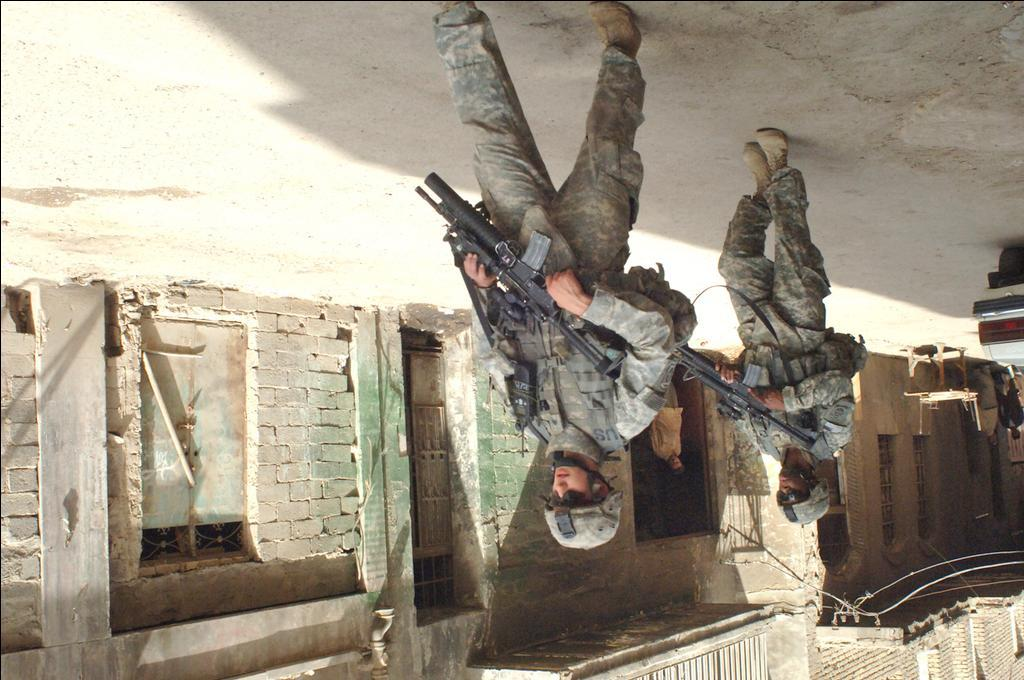gun: (413, 170, 609, 370), (670, 334, 814, 444)
